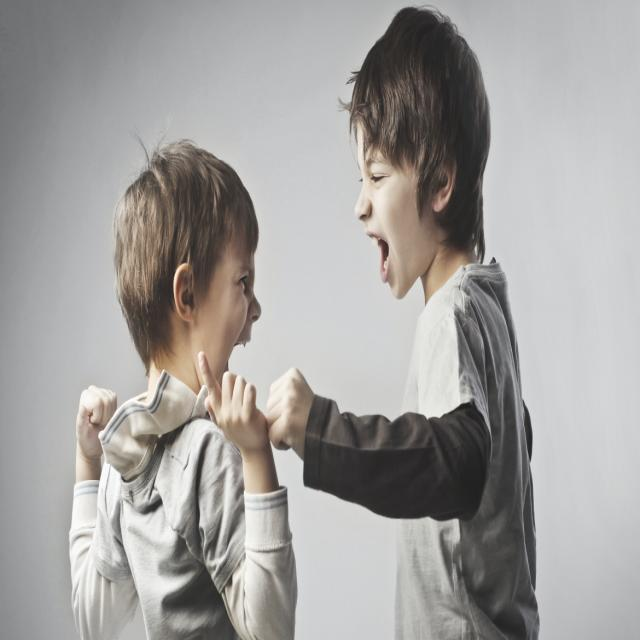fight: (66, 4, 545, 640)
